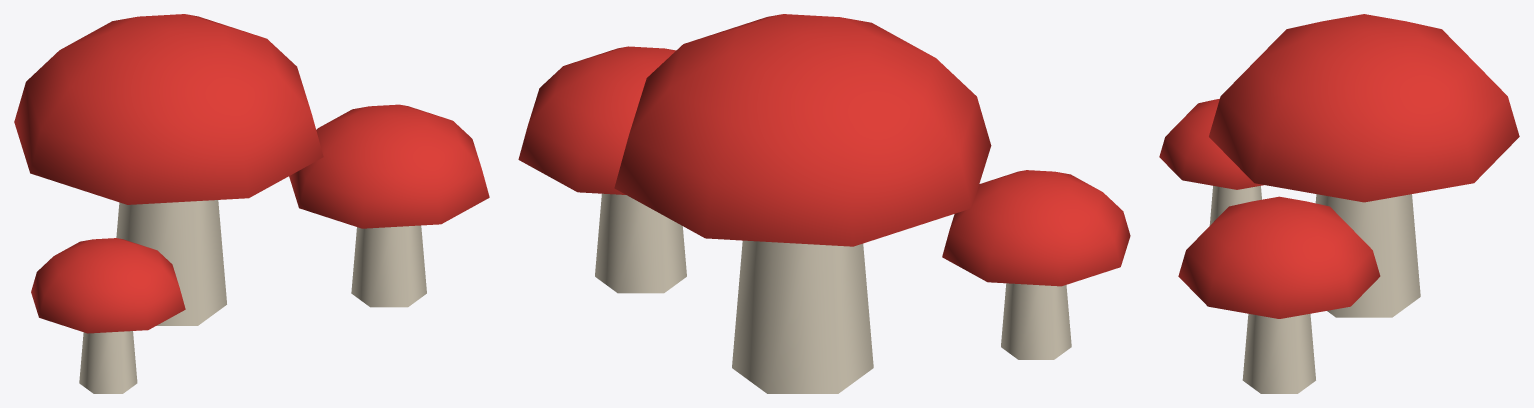
File: hongos.glb
3 renders of one model, left to right at view 1: azimuth 30°, elevation 25°; view 2: azimuth 150°, elevation 25°; view 3: azimuth 270°, elevation 25°, orthographic. The views are drawn at different scales.
Parts seen in each view (by area): view 1: sombrero (×3), pie (×3); view 2: sombrero (×3), pie (×3); view 3: sombrero (×3), pie (×3).
Part boxes in pixels (x1,y1,x2,y2): sombrero (×3): [14, 14, 489, 333]; pie (×3): [79, 200, 426, 393]; sombrero (×3): [518, 14, 1130, 286]; pie (×3): [595, 193, 1071, 393]; sombrero (×3): [1159, 14, 1519, 318]; pie (×3): [1209, 186, 1420, 393].
Bounding box in the file's own units: 0.733 × 0.415 × 0.51.
